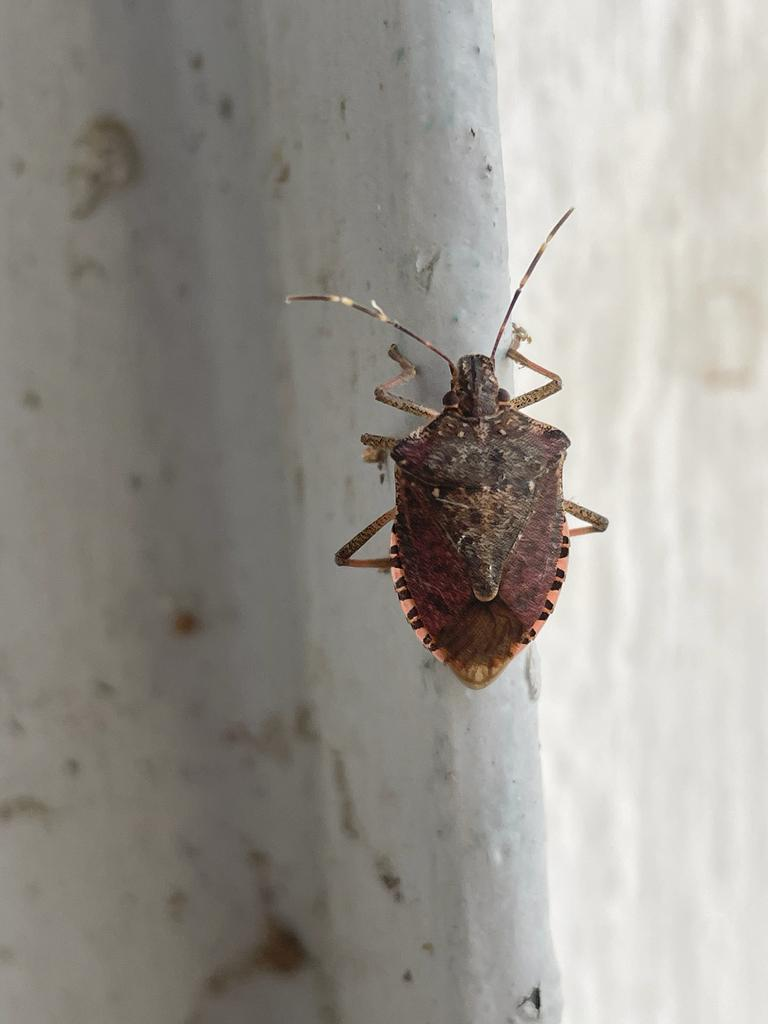stink_bugs: (232, 168, 684, 743)
